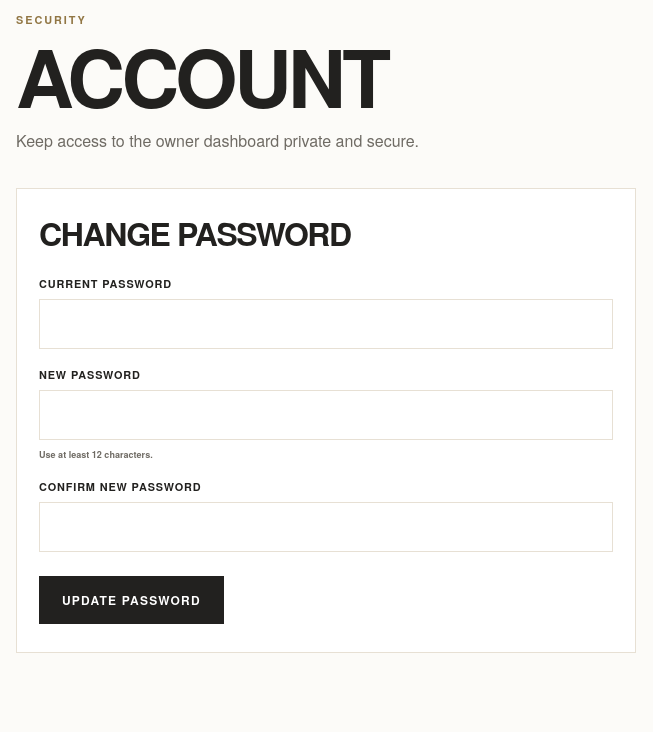
it: requires matching new passwords before account update
In the password field labelled "Current password": (326, 324) [39, 299, 613, 349], type "current-password"
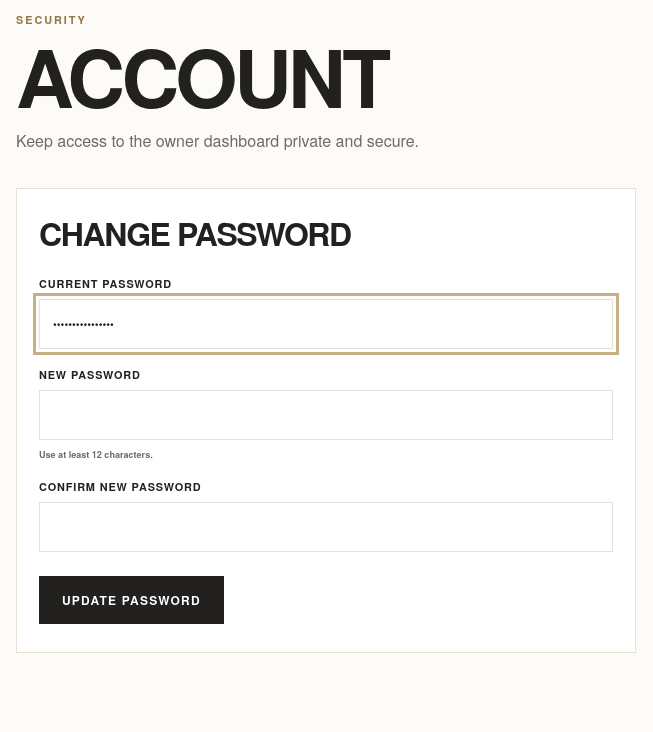
In the password field labelled "New password Use at least 12 characters.": (326, 415) [39, 390, 613, 440], type "a-new-password"
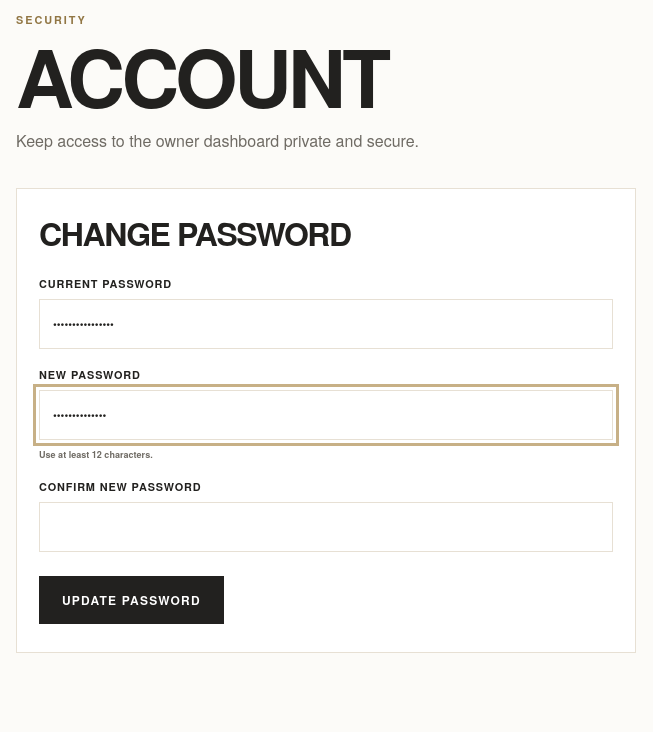
In the password field labelled "Confirm new password": (326, 527) [39, 502, 613, 552], type "different-password"
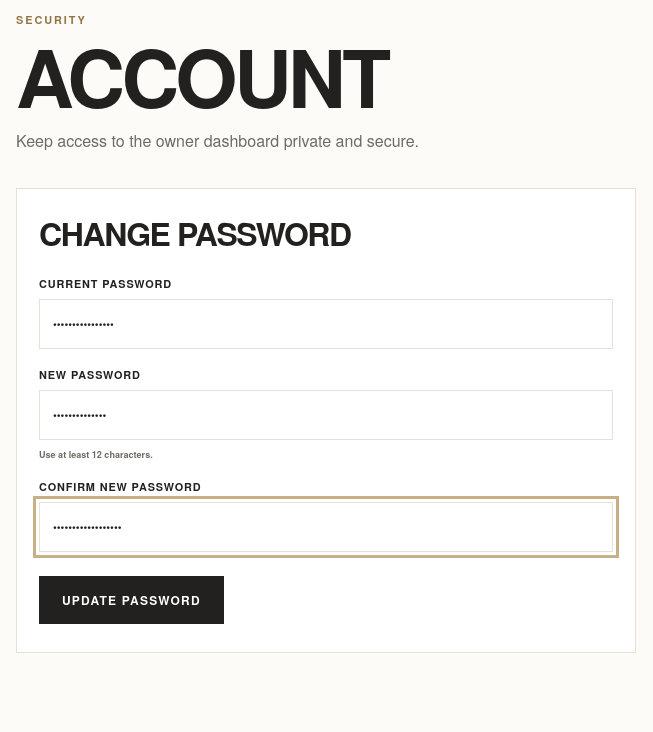
Click the button "Update password": (131, 600) [39, 576, 224, 624]
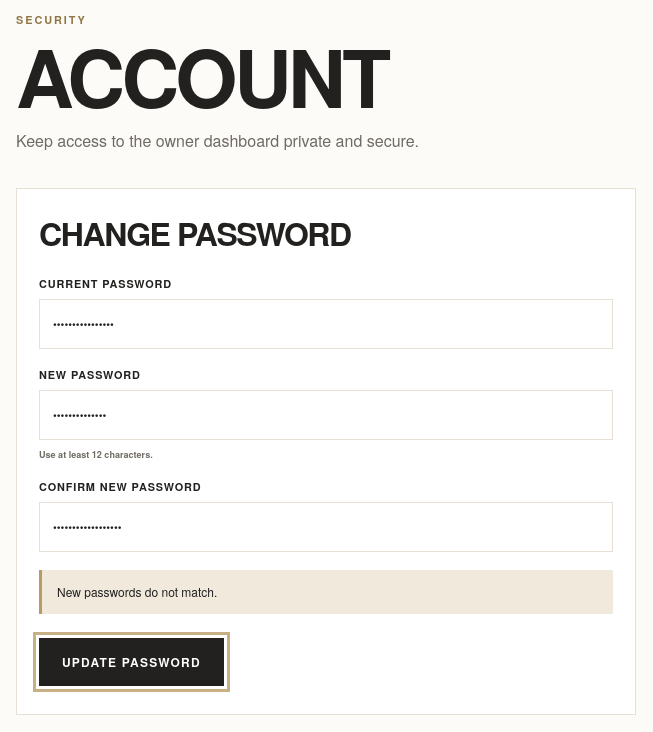
Check: the text "New passwords do not match." is shown, box [39, 570, 613, 614]
